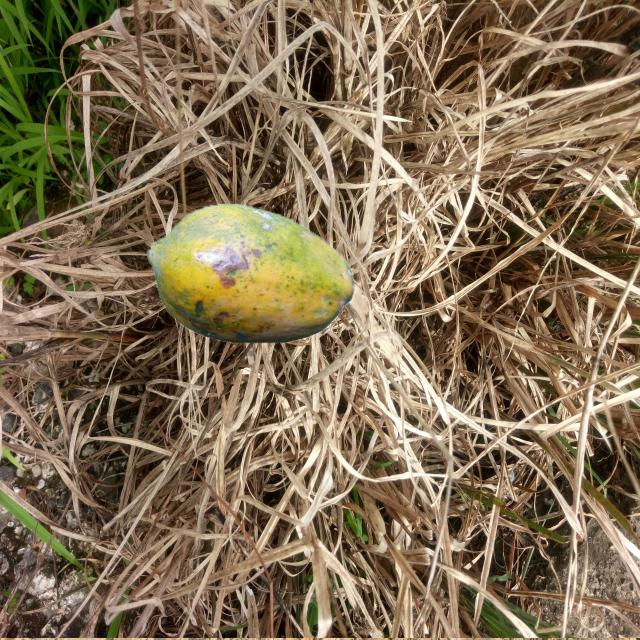Pepaya rippen: (136, 193, 356, 354)
